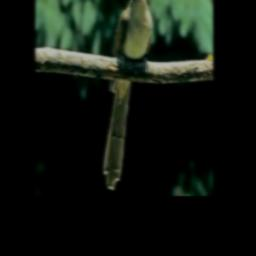Cuckoo: (103, 0, 153, 190)
